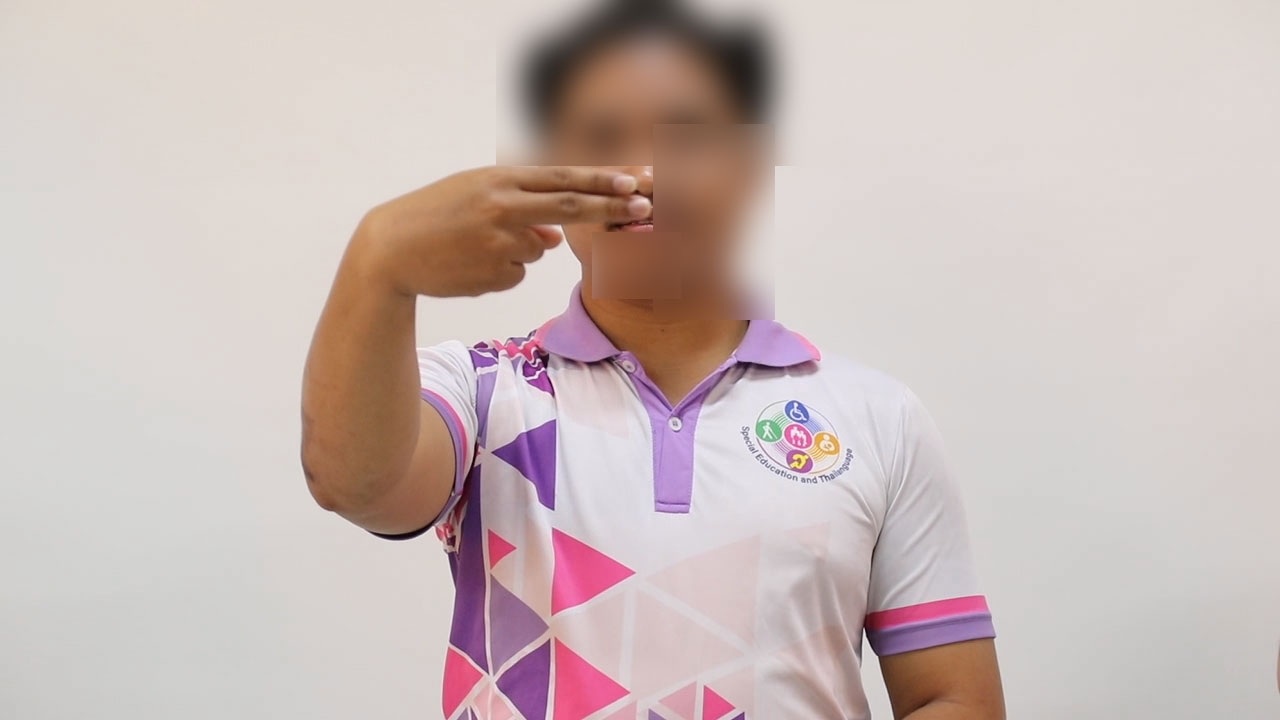hor: (340, 149, 659, 312)
